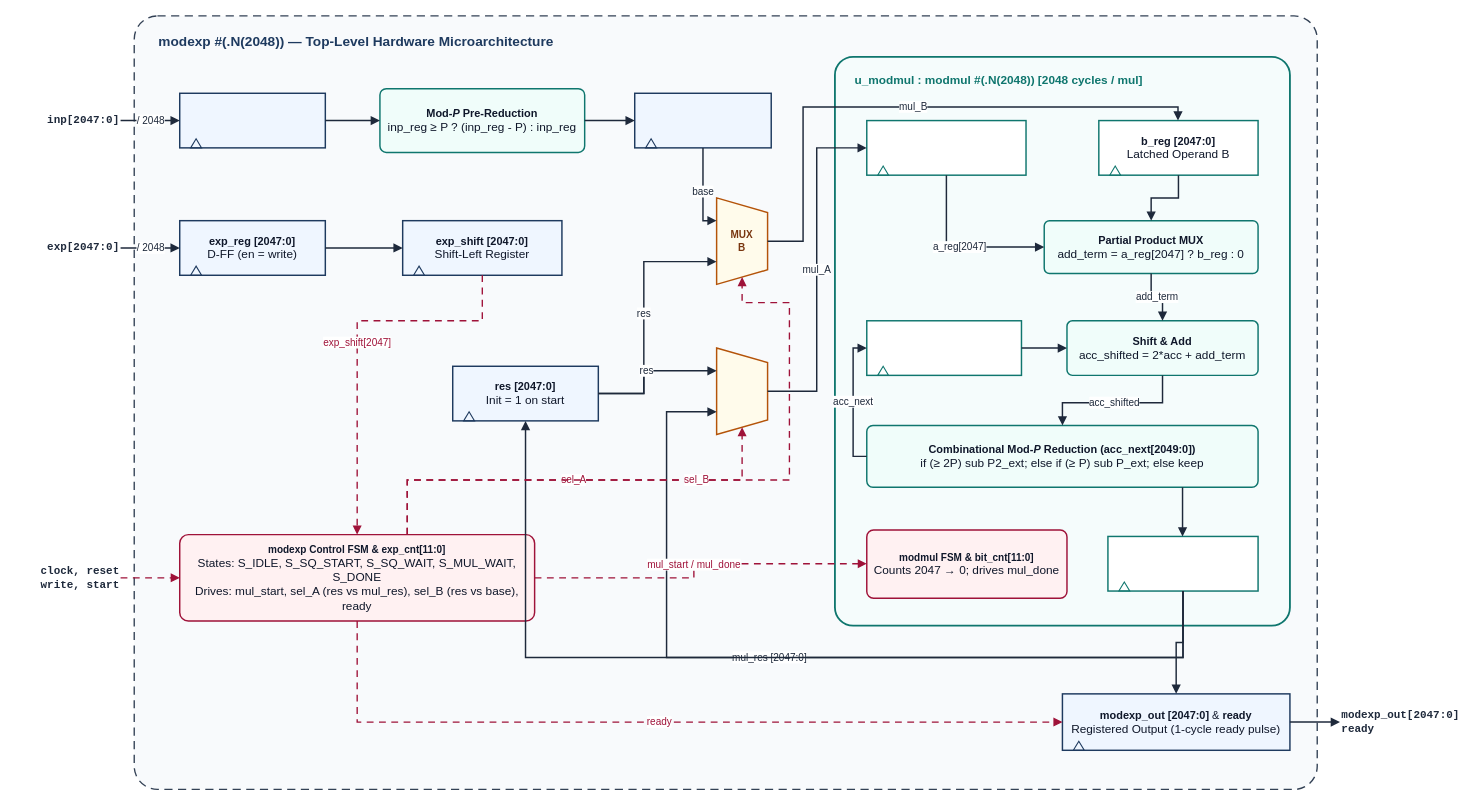
Some shapes in this 1475 by 806 pixel diagram are drawn without their labels. The shapes that lost their labels are listed below. From the top down, each one's centre as x and y in pixels, then its label:
At [252,120]: "inp_reg [2047:0] D-FF (en = write)".
At [702,120]: "base [2047:0] D-FF (en = start)".
At [946,147]: "a_reg [2047:0] Shift-Left (MSB)".
At [944,348]: "acc [2049:0] 2050-bit Accumulator".
At [741,391]: "MUX A".
At [1182,563]: "mul_res [2047:0] Output Register".
